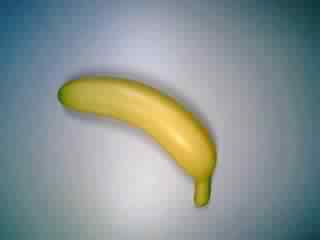banana: (48, 72, 227, 209)
